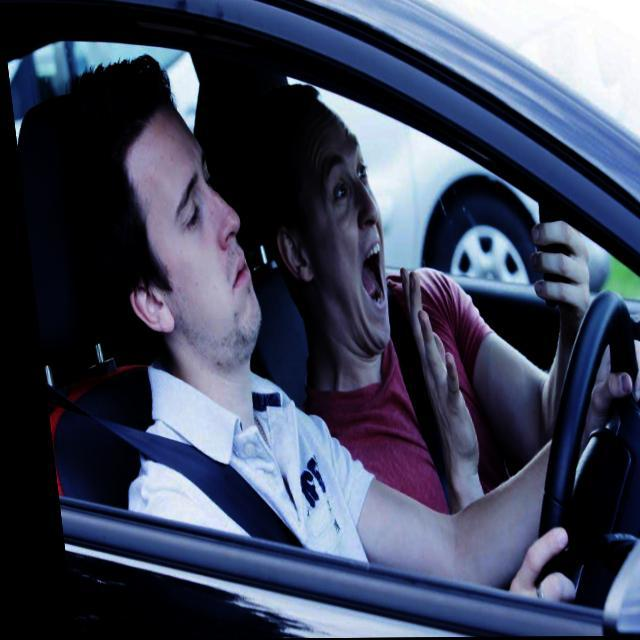seatbelt: (42, 344, 336, 602), (292, 261, 495, 514)
